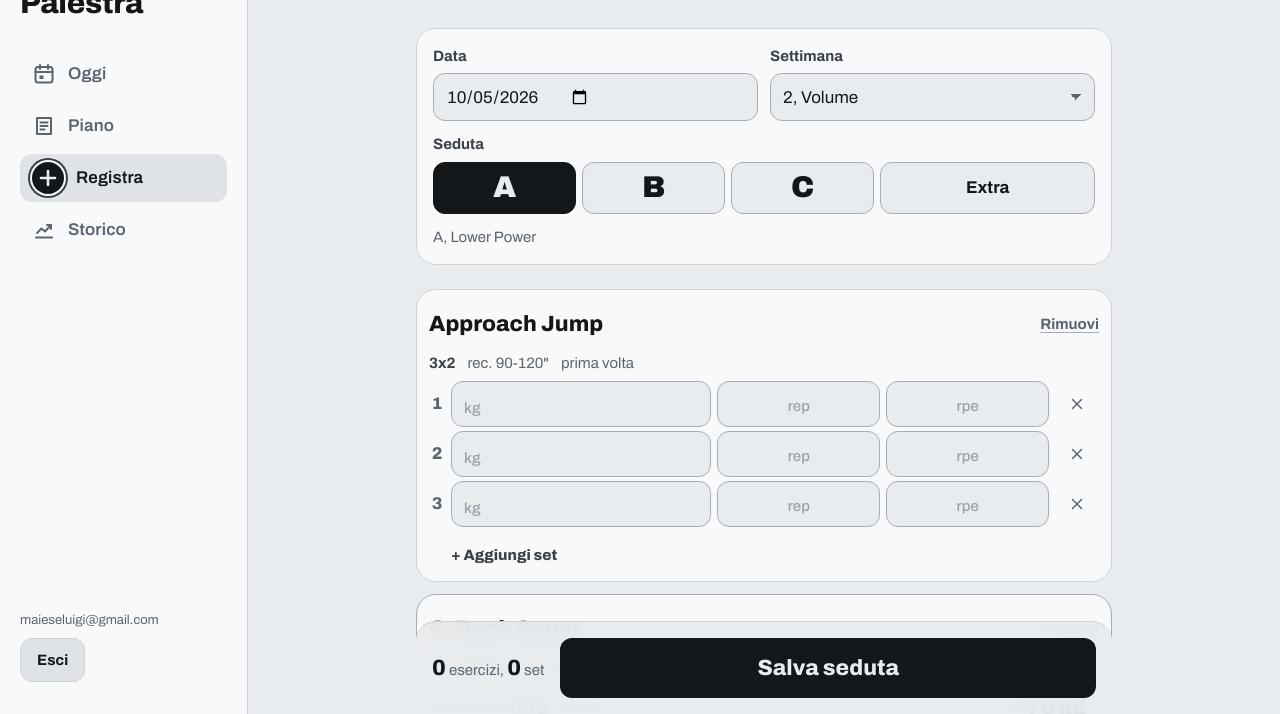
Registra › changing the date re-derives the session; off days take the missing one, outside the cycle is Extra
Type "2026-10-07" into the date field labelled "Data" at (596, 97), box x1=433 y1=73 x2=758 y2=121
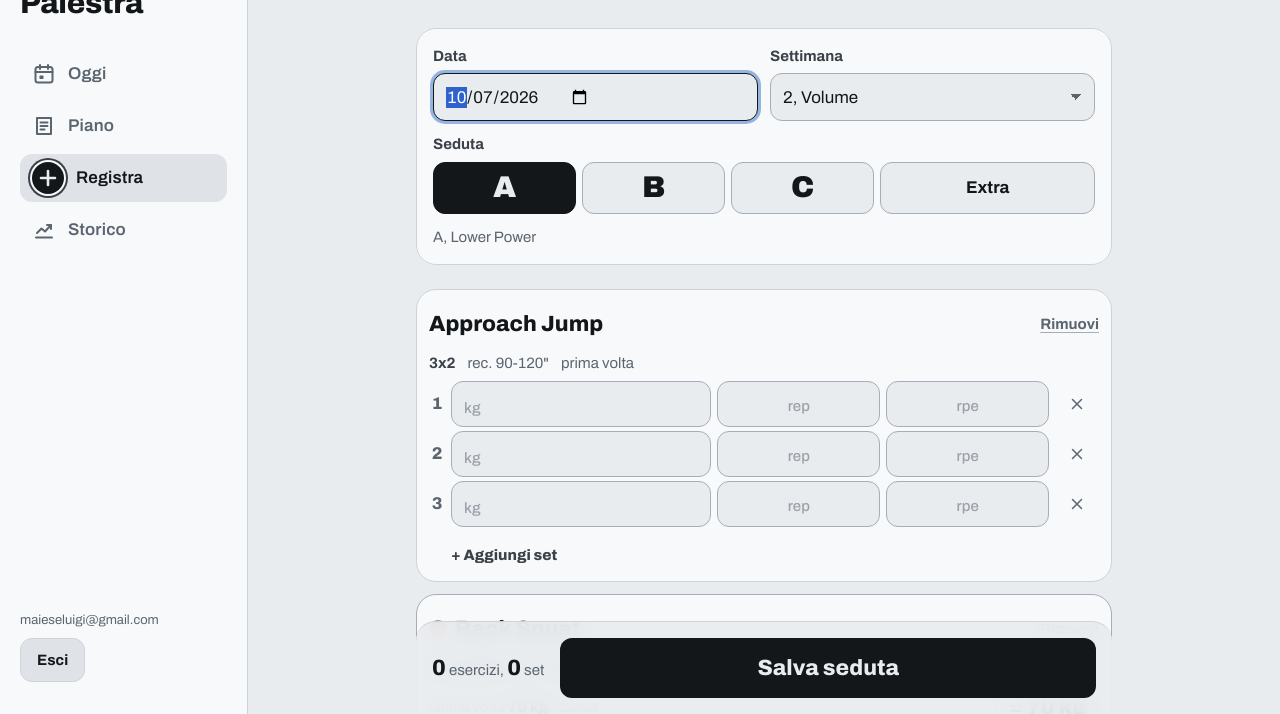
expect the dropdown labelled "Settimana" shows "2, Volume": met, box x1=770 y1=73 x2=1095 y2=121
Type "2026-11-28" into the date field labelled "Data" at (596, 97), box x1=433 y1=73 x2=758 y2=121
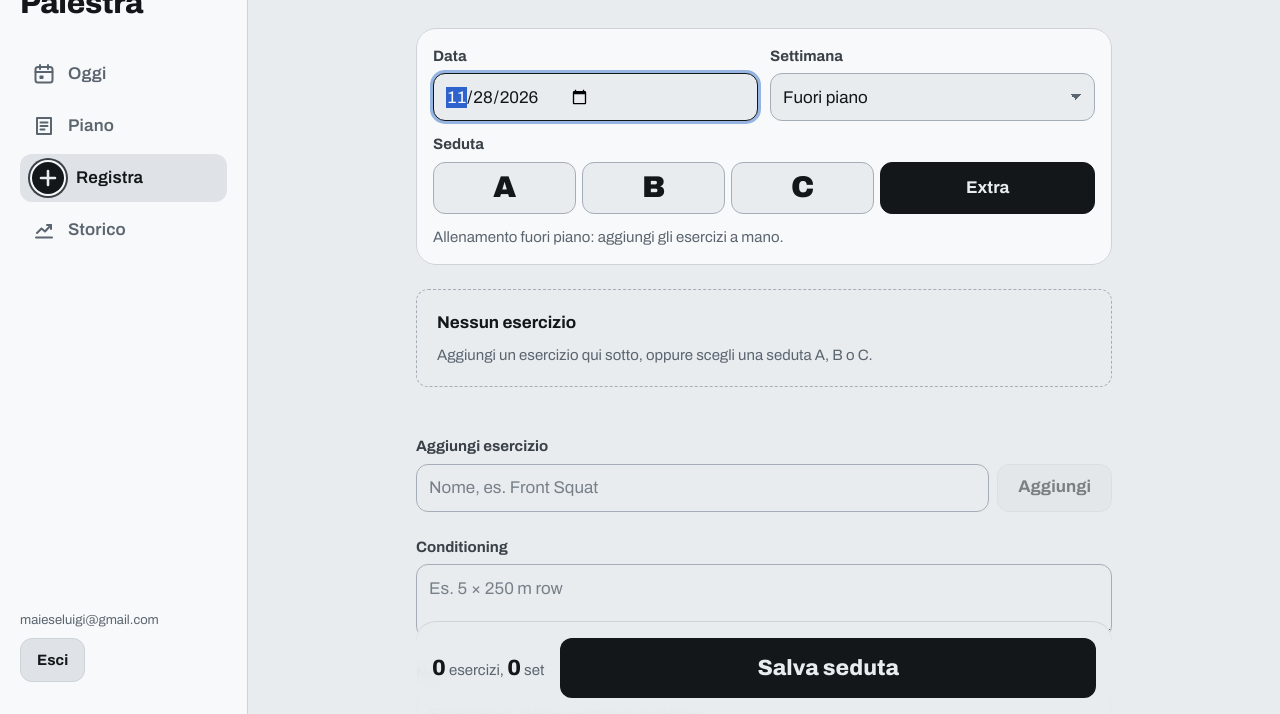
expect the dropdown labelled "Settimana" shows "Fuori piano": met, box x1=770 y1=73 x2=1095 y2=121
expect the text "Nessun esercizio" is shown: met, box x1=437 y1=310 x2=576 y2=336
Type "2026-10-10" into the date field labelled "Data" at (596, 97), box x1=433 y1=73 x2=758 y2=121
(page scrolled)
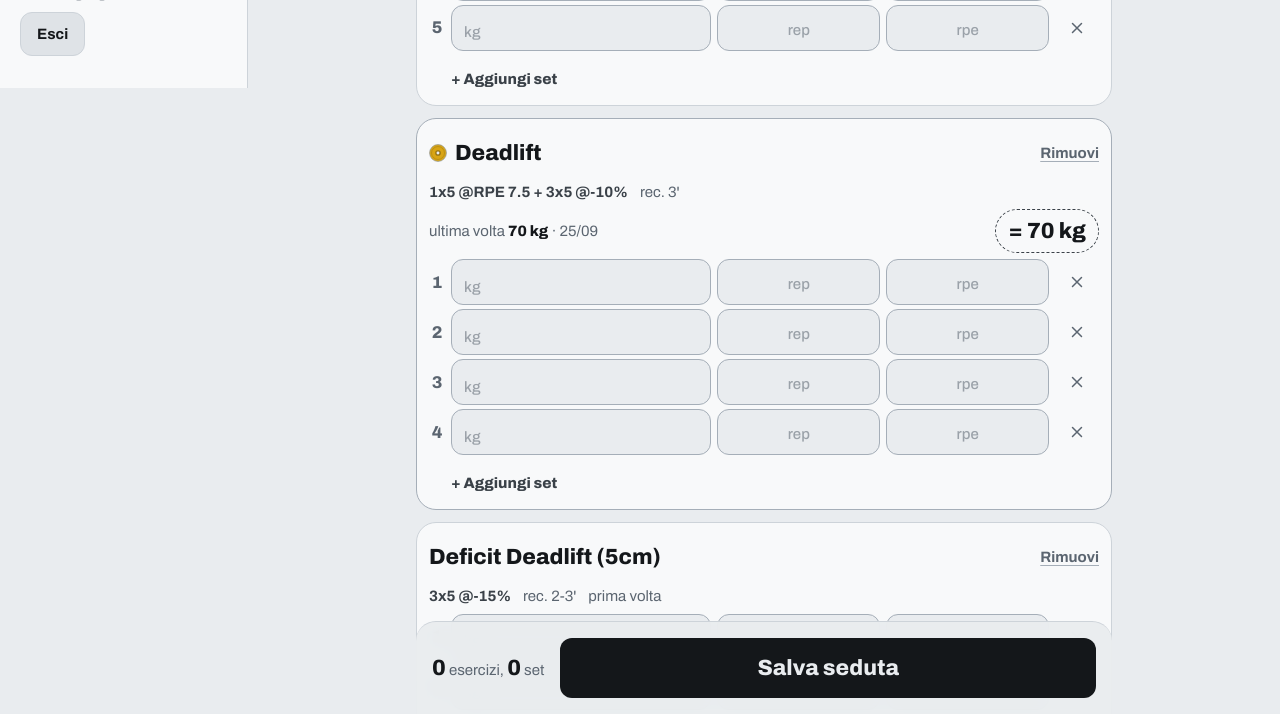
expect the list item "Deadlift" is shown: met, box x1=416 y1=118 x2=1112 y2=510
